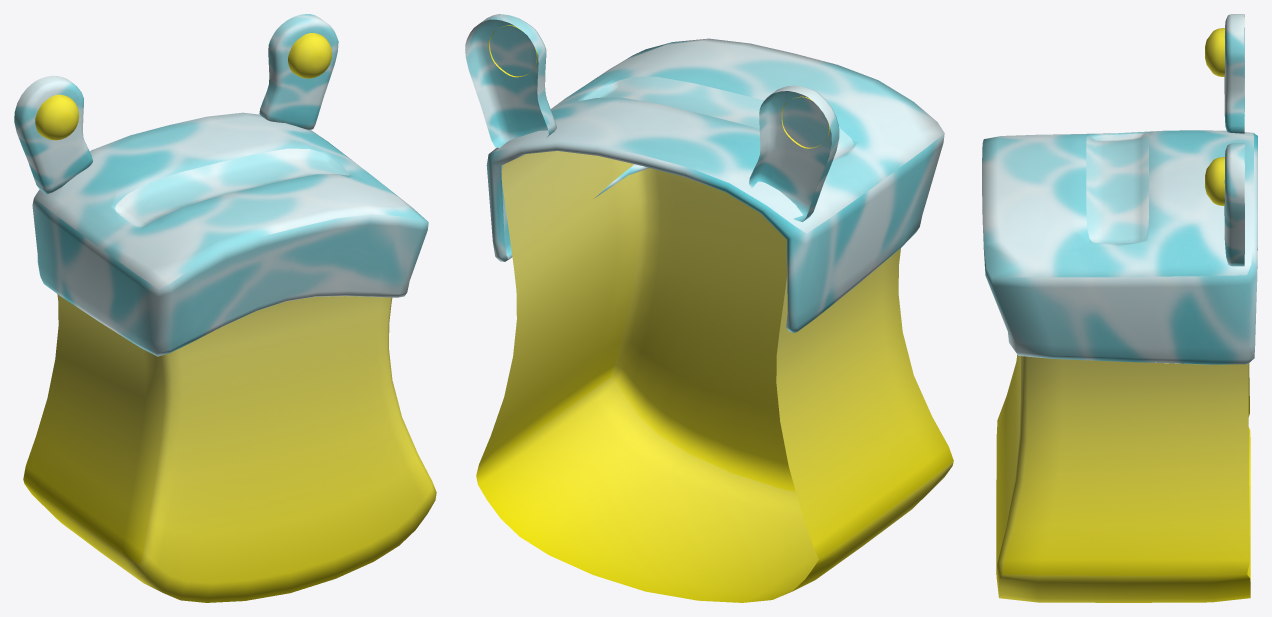
File: Mailbox_C_yellow.fbx
3 renders of one model, left to right at view 1: azimuth 30°, elevation 25°; view 2: azimuth 150°, elevation 25°; view 3: azimuth 270°, elevation 25°, orthographic. The views are drawn at different scales.
Parts seen in each view (by area): view 1: MailboxC_yellow; view 2: MailboxC_yellow; view 3: MailboxC_yellow.
Boxes of the visible parts, x1,y1,x2,y2 form: MailboxC_yellow: (14,14,436,602); MailboxC_yellow: (465,14,953,602); MailboxC_yellow: (982,14,1257,602).
Bounding box in the file's own units: 1.14 × 0.8211 × 1.6.
